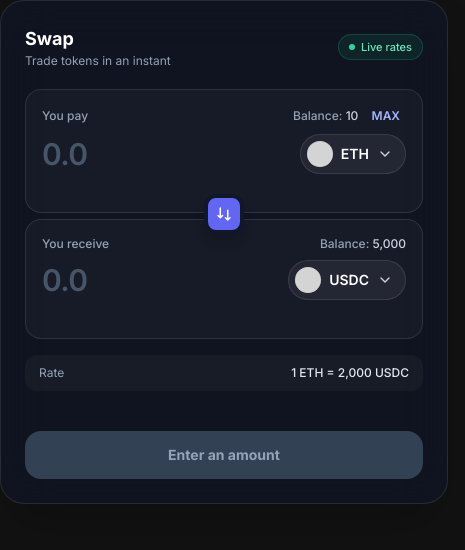
Scenario: SwapForm › computes the receive amount and enables submit for a valid amount
The width and height of the screenshot is (465, 550).
Type "2" into the field named "You pay amount".
click(165, 154); type("2")  # box [42,136,288,172]
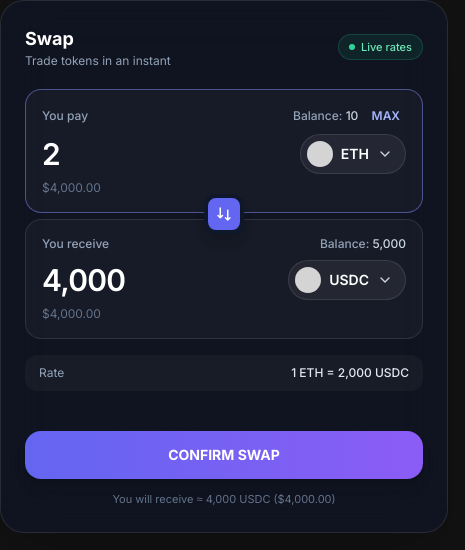
Check: the field named "You receive amount" holds "4,000", box [42,262,276,298]
Check: the button "CONFIRM SWAP" is enabled, box [25,431,423,479]
